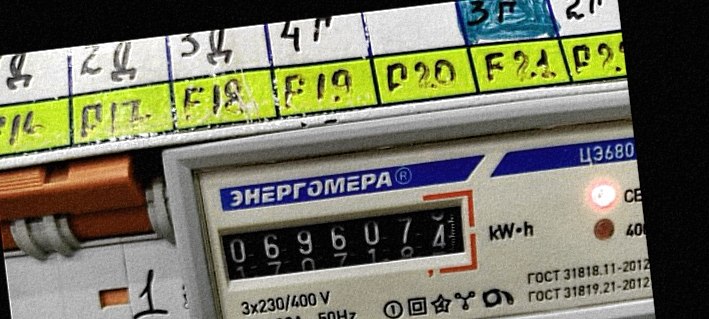0: (226, 236, 250, 266), (362, 217, 383, 248), (262, 232, 282, 260)
4: (429, 222, 449, 252)
6: (327, 221, 349, 253)
7: (395, 214, 416, 245)
9: (295, 227, 316, 257)
screen: (203, 185, 485, 301)
